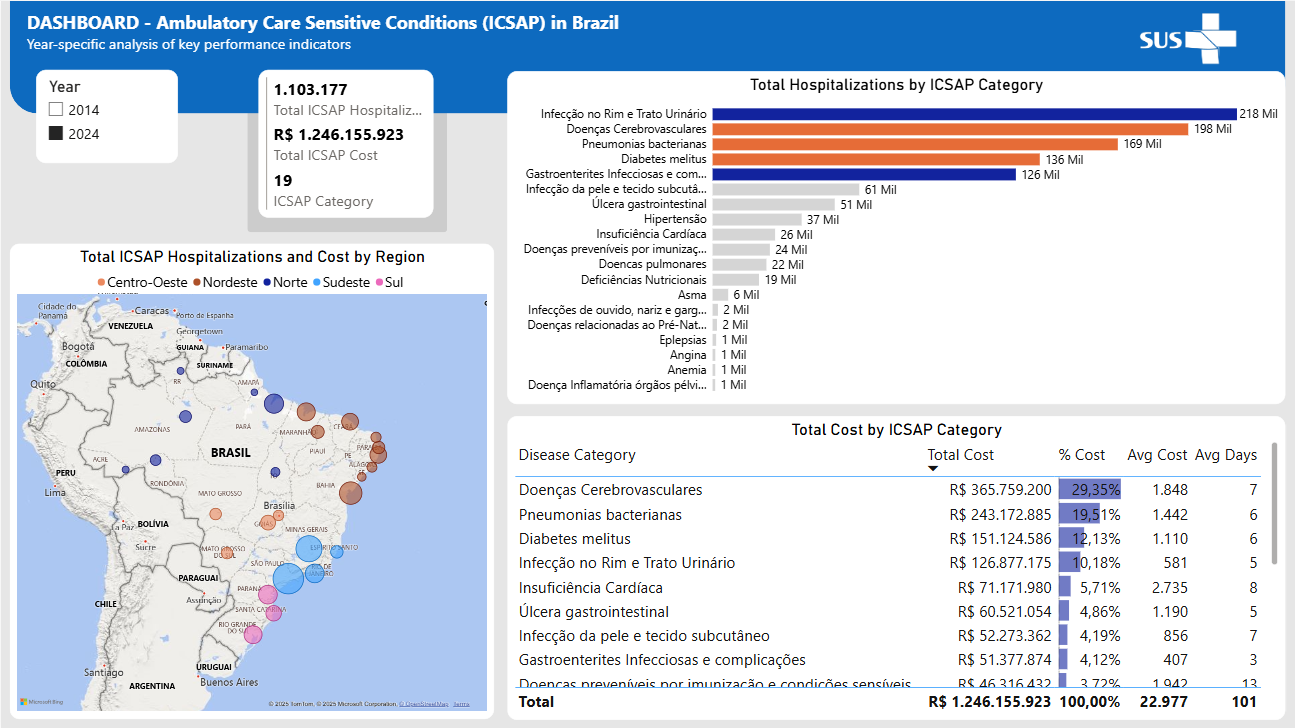

This screenshot's page, from the dashboard's own definition file:
{"tool":"powerbi","page":{"name":"Page 2","canvas":[1920,1080],"ordinal":1},"visuals":[{"type":"shape","box":[364.4,116.3,296.3,226.1],"z":0},{"type":"shape","box":[13.2,0,1890,166.8],"z":1000},{"type":"multiRowCard","fields":{"Values":["Sum(sih_icsap_category.total_hospitalizations)","Sum(sih_icsap_category.total_cost)","sih_icsap_category.disease_category"]},"box":[381.9,102.5,259,219.5],"z":2000},{"type":"slicer","fields":{"Values":["sih_icsap_category.year"]},"box":[52.7,102.5,210.7,138.3],"z":3000},{"type":"clusteredBarChart","title":"Total Hospitalizations by ICSAP Category","fields":{"Category":["sih_icsap_category.disease_category"],"Y":["Sum(sih_icsap_category.total_hospitalizations)"]},"box":[750.7,103.2,1152.4,493.9],"z":4000},{"type":"tableEx","title":"Total Cost by ICSAP Category","fields":{"Values":["sih_icsap_category.disease_category","Sum(sih_icsap_category.total_cost)","Divide(Sum(sih_icsap_category.total_cost), ScopedEval(Sum(sih_icsap_category.total_cost), []))","Sum(sih_icsap_category.avg_cost)","Sum(sih_icsap_category.avg_length_stay)"]},"box":[750.7,614.6,1152.4,450],"z":5000},{"type":"map","title":"Total ICSAP Hospitalizations and Cost by Region","fields":{"Category":["sih_region_icsap.state_name"],"Series":["sih_region_icsap.big_region_name"],"Size":["Sum(sih_region_icsap.total_hospitalizations)"]},"box":[13.2,360,717.8,704.6],"z":6000},{"type":"textbox","box":[32.9,6.6,970.2,90],"z":7000},{"type":"image","box":[1679.3,0,160.2,112],"z":8000}]}

Visuals, with their boxes in screenshot pixels (x1, y1, x2, y2), scaled from the page's 1920x1080 canvas onto the 1295x728 screenshot:
shape: {"left": 246, "top": 78, "right": 446, "bottom": 231}
shape: {"left": 9, "top": 0, "right": 1284, "bottom": 112}
multiRowCard - Sum(sih_icsap_category.total_hospitalizations) x Sum(sih_icsap_category.total_cost): {"left": 258, "top": 69, "right": 432, "bottom": 217}
slicer - sih_icsap_category.year: {"left": 36, "top": 69, "right": 178, "bottom": 162}
"Total Hospitalizations by ICSAP Category" clusteredBarChart: {"left": 506, "top": 70, "right": 1284, "bottom": 402}
"Total Cost by ICSAP Category" tableEx: {"left": 506, "top": 414, "right": 1284, "bottom": 718}
"Total ICSAP Hospitalizations and Cost by Region" map: {"left": 9, "top": 243, "right": 493, "bottom": 718}
textbox: {"left": 22, "top": 4, "right": 677, "bottom": 65}
image: {"left": 1133, "top": 0, "right": 1241, "bottom": 75}
